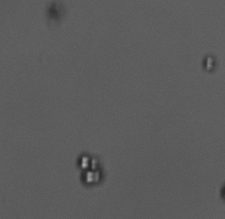Living Cell: (76, 153, 101, 169), (81, 169, 103, 187)
